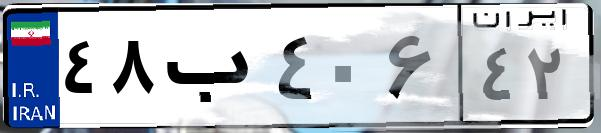0: (330, 28, 385, 110)
2: (525, 38, 570, 115)
4: (270, 28, 330, 110), (57, 26, 110, 100), (475, 38, 525, 113)
6: (385, 28, 445, 110)
8: (110, 28, 158, 98)
ب: (158, 20, 270, 120)
